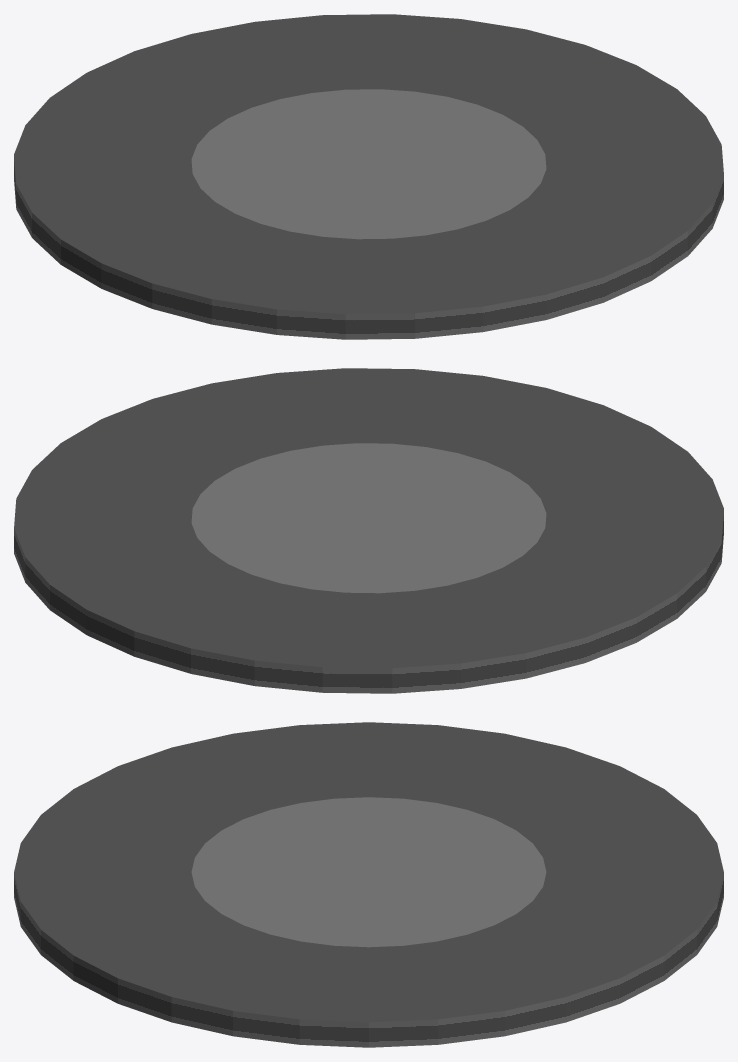
Rendered from Avatardisc.obj.
3 renders of one model, top to bottom at view 1: azimuth 30°, elevation 25°; view 2: azimuth 150°, elevation 25°; view 3: azimuth 270°, elevation 25°, orthographic.
Parts seen in each view (by area): view 1: Cylinder; view 2: Cylinder; view 3: Cylinder.
Boxes of the visible parts, x1=… form: Cylinder: x1=14, y1=14, x2=723, y2=339; Cylinder: x1=14, y1=368, x2=723, y2=693; Cylinder: x1=14, y1=722, x2=723, y2=1047.
Size of the model in its own units: 2 by 0.0792 by 2.
Materials: 1 (1 with a texture image).
